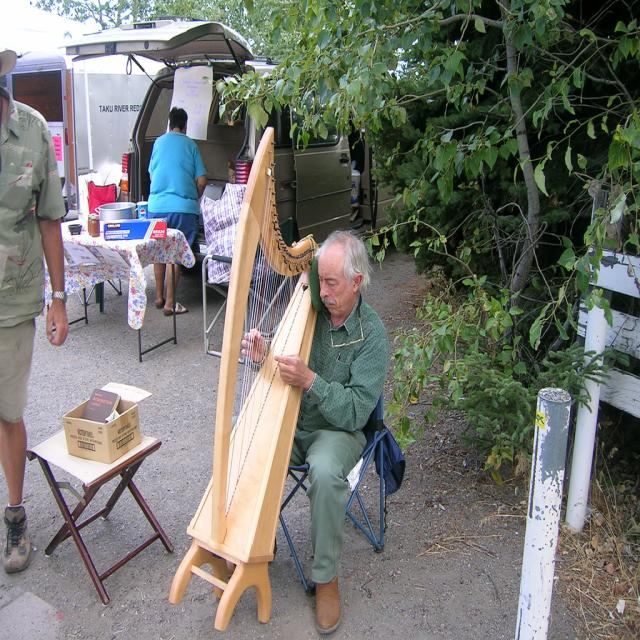harp: (166, 127, 327, 626)
